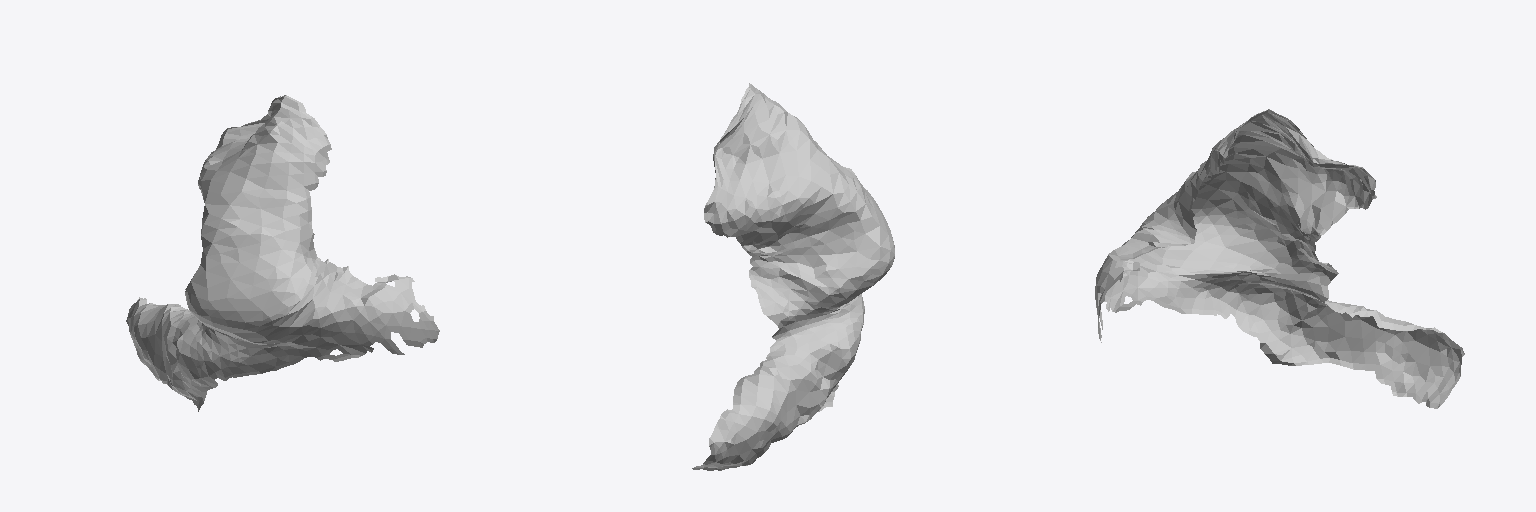
File: R_insular_short.obj
3 views of the same model, side by side, from view 1: azimuth 30°, elevation 25°; view 2: azimuth 150°, elevation 25°; view 3: azimuth 270°, elevation 25° (orthographic).
Parts seen in each view (by area): view 1: R_insular_short_L_insular_short; view 2: R_insular_short_L_insular_short; view 3: R_insular_short_L_insular_short.
Part boxes in pixels (x1,y1,x2,y2): R_insular_short_L_insular_short: (126, 95, 439, 411); R_insular_short_L_insular_short: (692, 83, 894, 470); R_insular_short_L_insular_short: (1095, 109, 1464, 408).
Size of the model in its own units: 70.91 by 116 by 122.